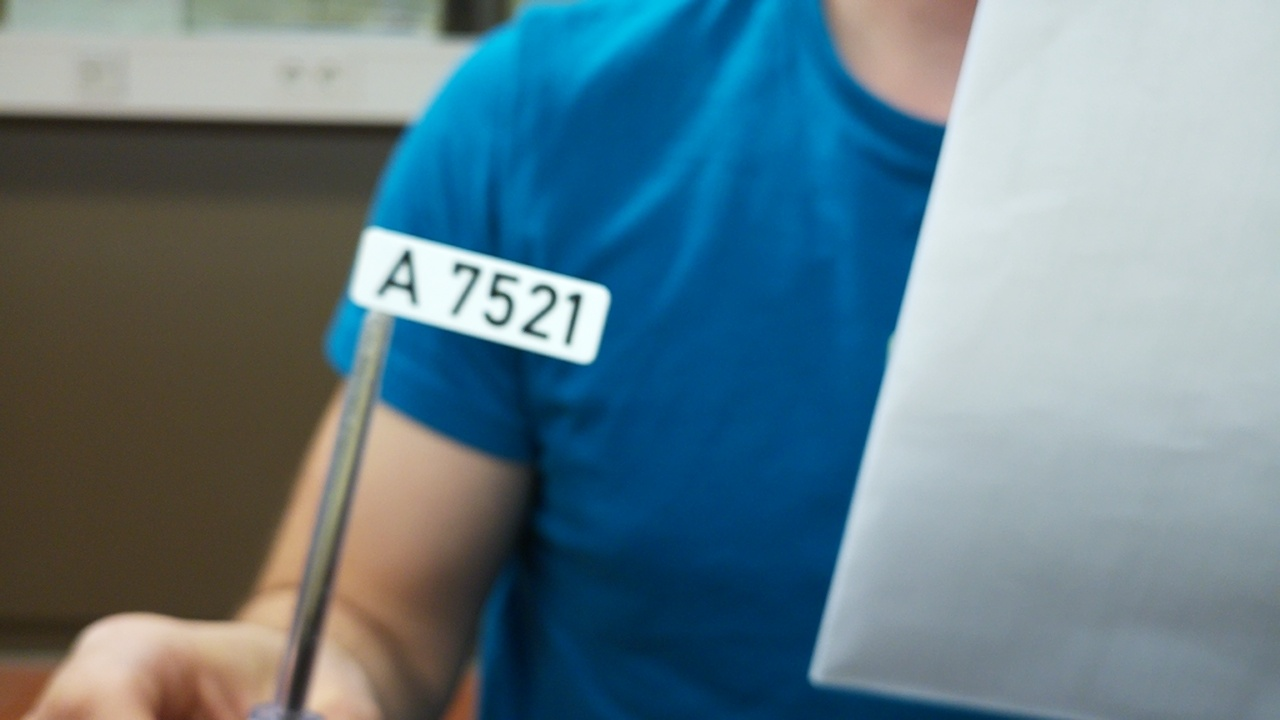license_plate: (342, 221, 621, 368)
